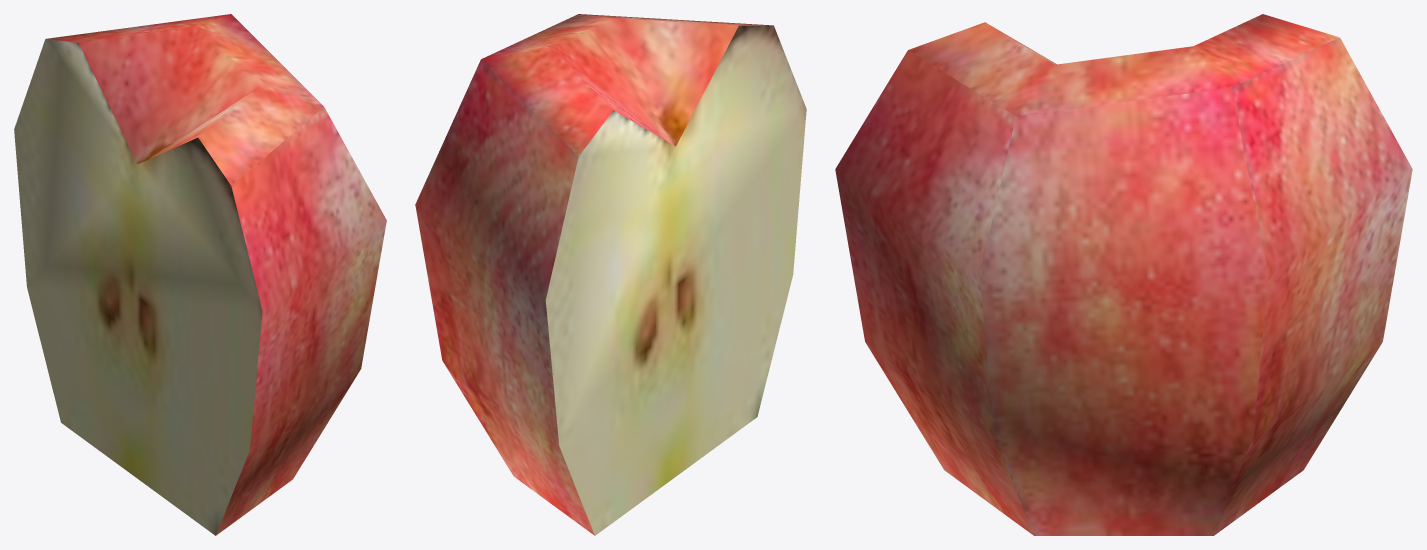
Rendered from Apple.glb.
3 renders of one model, left to right at view 1: azimuth 30°, elevation 25°; view 2: azimuth 150°, elevation 25°; view 3: azimuth 270°, elevation 25°, orthographic. The views are drawn at different scales.
Visible parts, largest first — view 1: Apple; view 2: Apple; view 3: Apple.
Part boxes in pixels (box(x1,y1,x2,y2)): Apple: box(14, 14, 386, 535); Apple: box(415, 14, 806, 535); Apple: box(835, 14, 1412, 535).
Size of the model in its own units: 0.06 by 0.1255 by 0.1384.
Materials: 1 (1 with a texture image).
